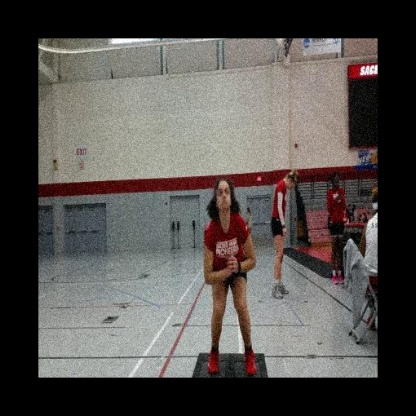lateral_flexion_right: (200, 173, 261, 378)
stance_width_normal: (201, 210, 259, 378)
